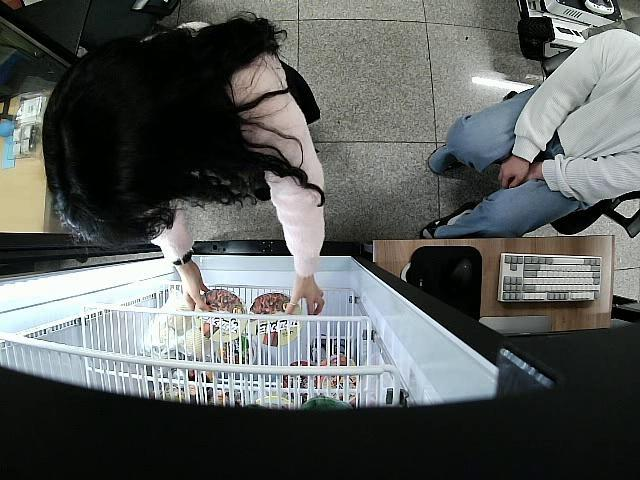03_chapagetti_L: (193, 288, 246, 341), (248, 294, 302, 346)
